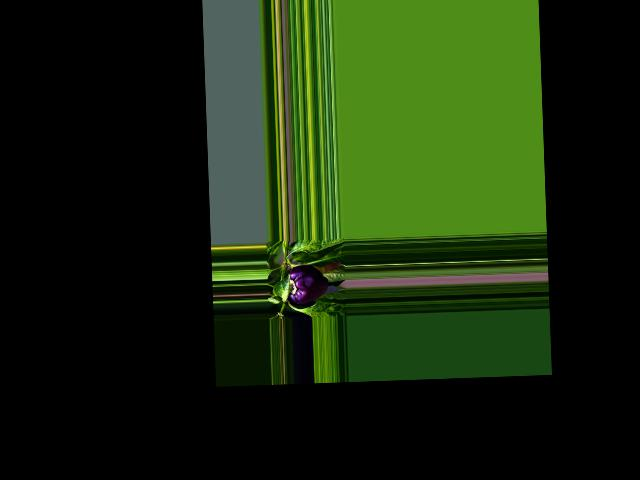bell_pepper: (283, 263, 330, 304)
